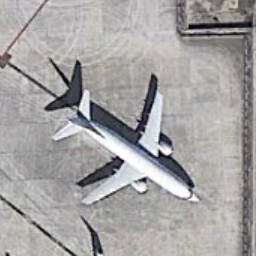Airplane: (29, 57, 224, 226)
